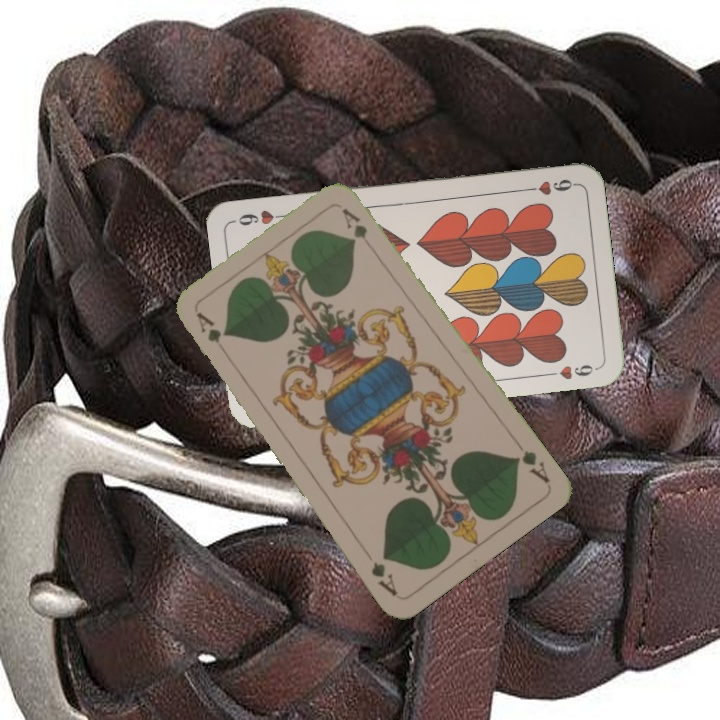GA: (509, 446, 553, 486), (192, 308, 223, 346)
H9: (519, 175, 578, 198)
